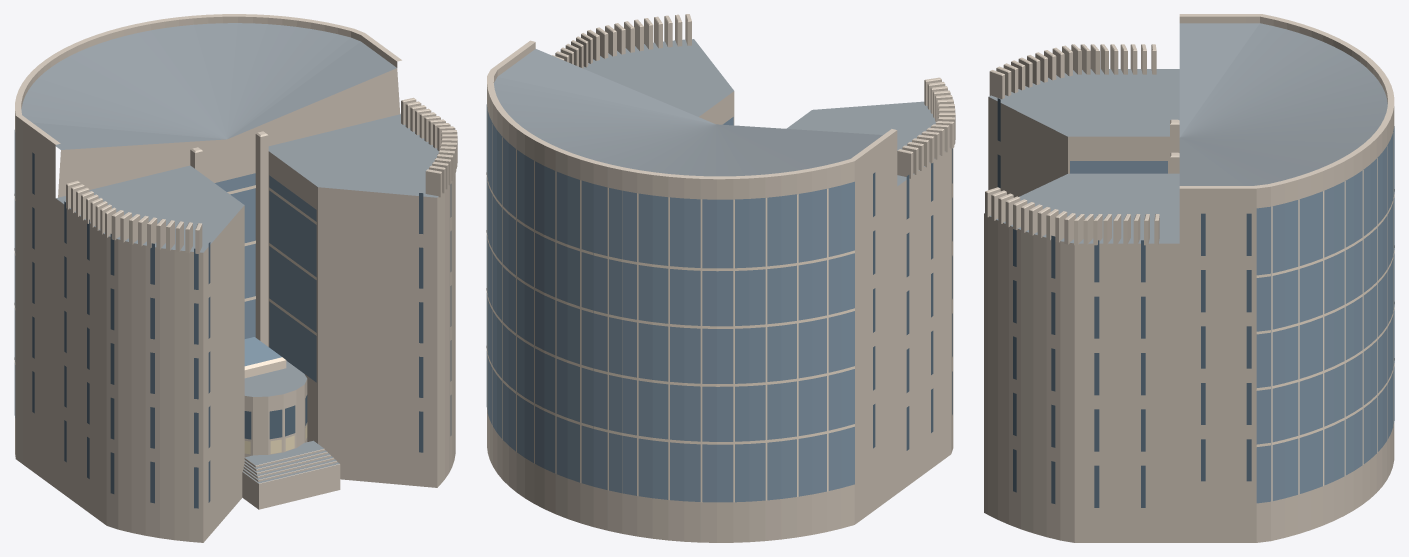
File: kc-whittaker-courthouse.glb
3 views of the same model, side by side, from view 1: azimuth 30°, elevation 25°; view 2: azimuth 150°, elevation 25°; view 3: azimuth 270°, elevation 25° (orthographic). The views are drawn at different scales.
Parts seen in each view (by area): view 1: Charles Evans Whittaker U.S. Courthouse; view 2: Charles Evans Whittaker U.S. Courthouse; view 3: Charles Evans Whittaker U.S. Courthouse.
Part boxes in pixels (<box>): Charles Evans Whittaker U.S. Courthouse: <box>14,14,457,542</box>; Charles Evans Whittaker U.S. Courthouse: <box>486,14,955,542</box>; Charles Evans Whittaker U.S. Courthouse: <box>984,14,1394,542</box>.
Size of the model in its own units: 85.73 by 80.5 by 84.57.
